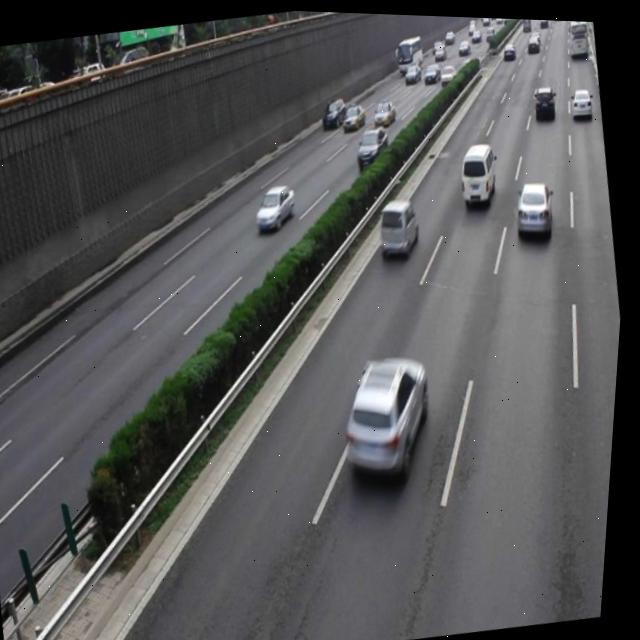car: (334, 346, 445, 482), (376, 193, 423, 257), (511, 173, 558, 234), (252, 180, 300, 231)
truck: (456, 137, 502, 204)
